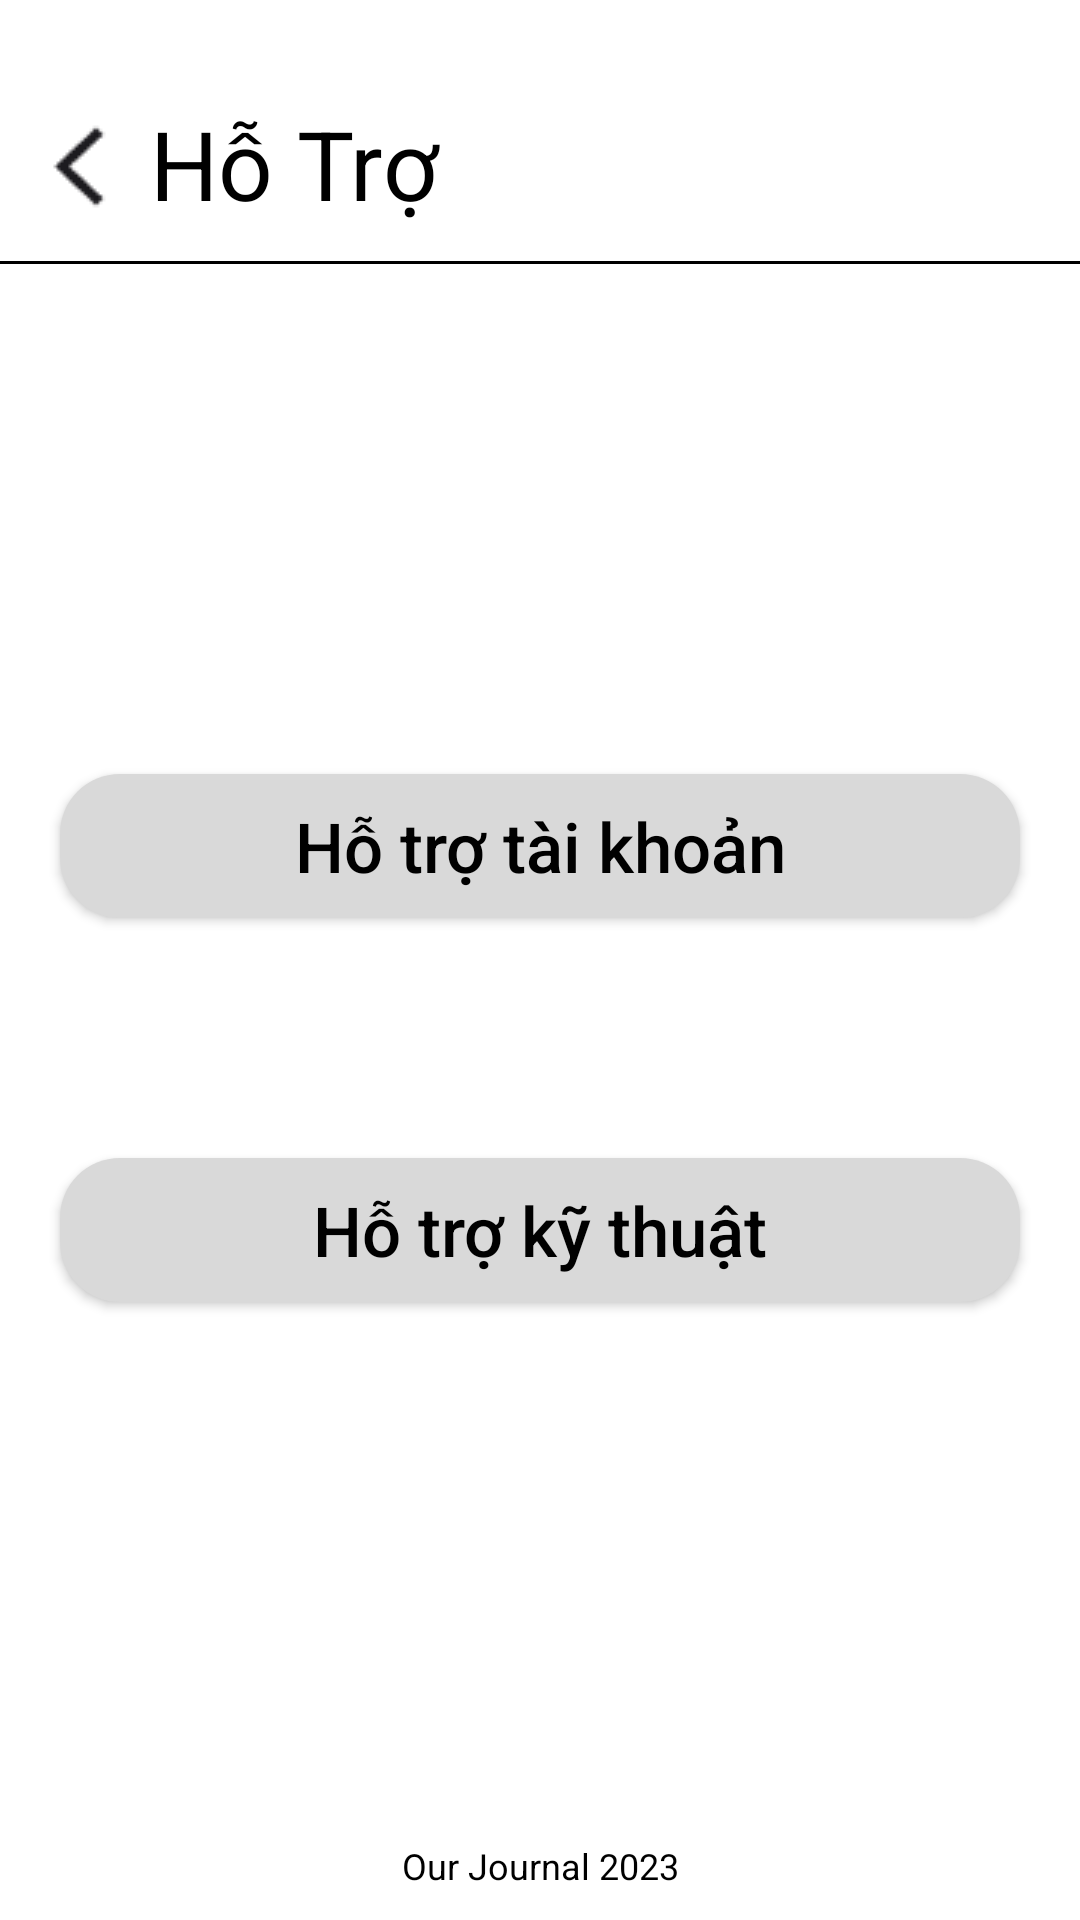

Named icons in this screenshot (1080 × 1920) and their bounding boxes, {"x1": x1, "y1": y1, "x2": x2, "y2": y2}:
arrow back: {"x1": 53, "y1": 127, "x2": 104, "y2": 206}
